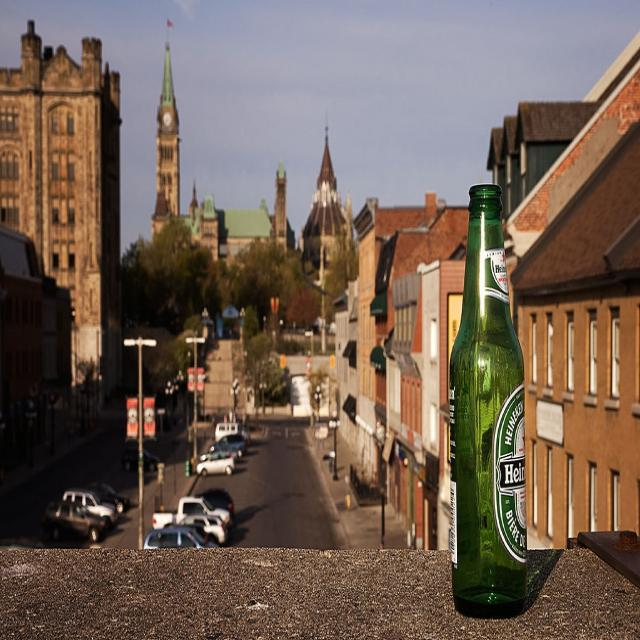heineken: (493, 386, 528, 565)
